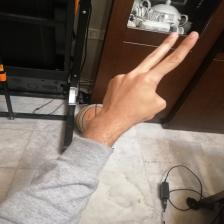two: (108, 28, 201, 126)
